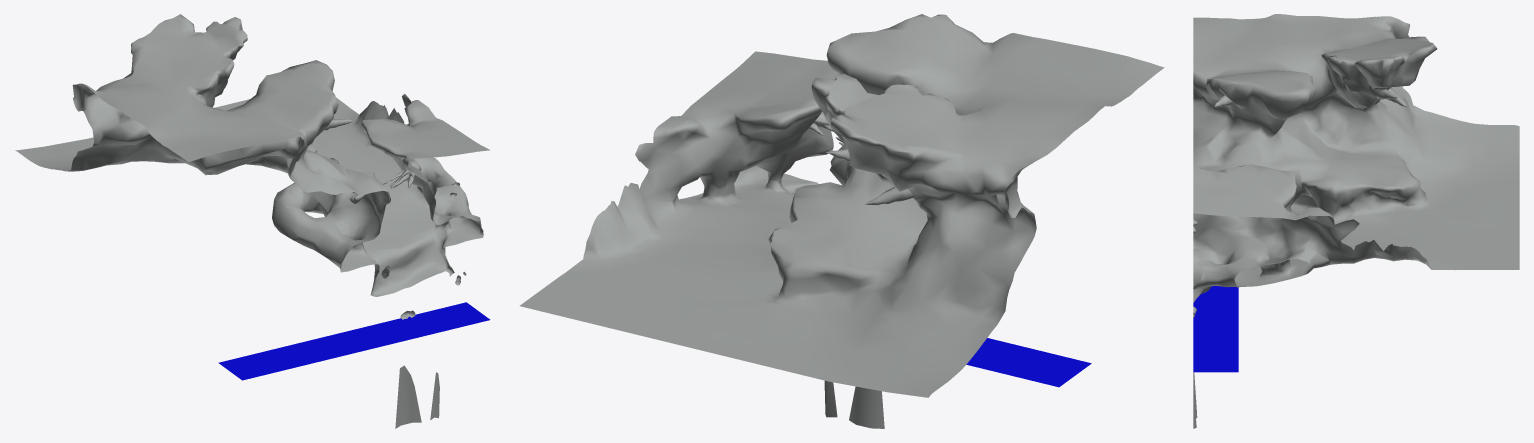
The picture shows the model from 3 angles, left to right: view 1: azimuth 30°, elevation 25°; view 2: azimuth 150°, elevation 25°; view 3: azimuth 270°, elevation 25°; orthographic projection. The views are drawn at different scales.
Visible parts, largest first — view 1: G:\FFXIV-MapTools\exports\l1f1\bg\ffxiv\lak_l1\fld\l1f1\bgpl (×17); view 2: G:\FFXIV-MapTools\exports\l1f1\bg\ffxiv\lak_l1\fld\l1f1\bgpl (×18); view 3: G:\FFXIV-MapTools\exports\l1f1\bg\ffxiv\lak_l1\fld\l1f1\bgpl (×18).
Boxes of the visible parts, x1,y1,x2,y2 form: G:\FFXIV-MapTools\exports\l1f1\bg\ffxiv\lak_l1\fld\l1f1\bgpl (×17): (15,14,490,428); G:\FFXIV-MapTools\exports\l1f1\bg\ffxiv\lak_l1\fld\l1f1\bgpl (×18): (520,14,1164,428); G:\FFXIV-MapTools\exports\l1f1\bg\ffxiv\lak_l1\fld\l1f1\bgpl (×18): (1193,14,1519,372).
Size of the model in its own units: 128 by 140 by 128.
